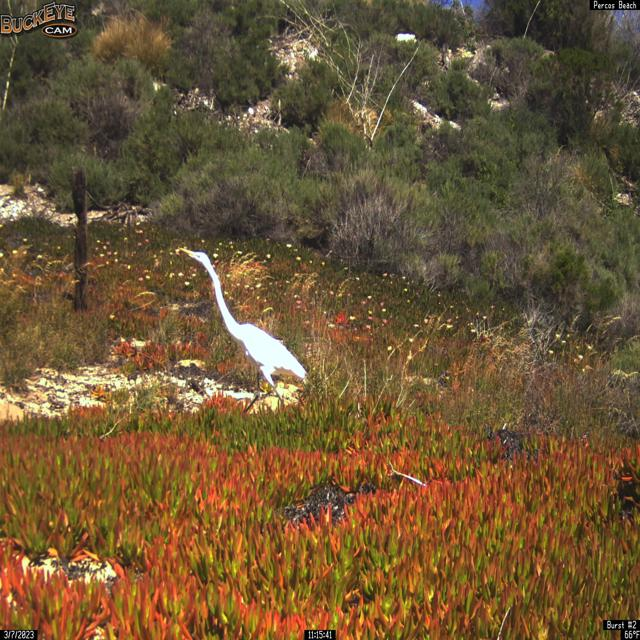bird: (173, 246, 309, 413)
